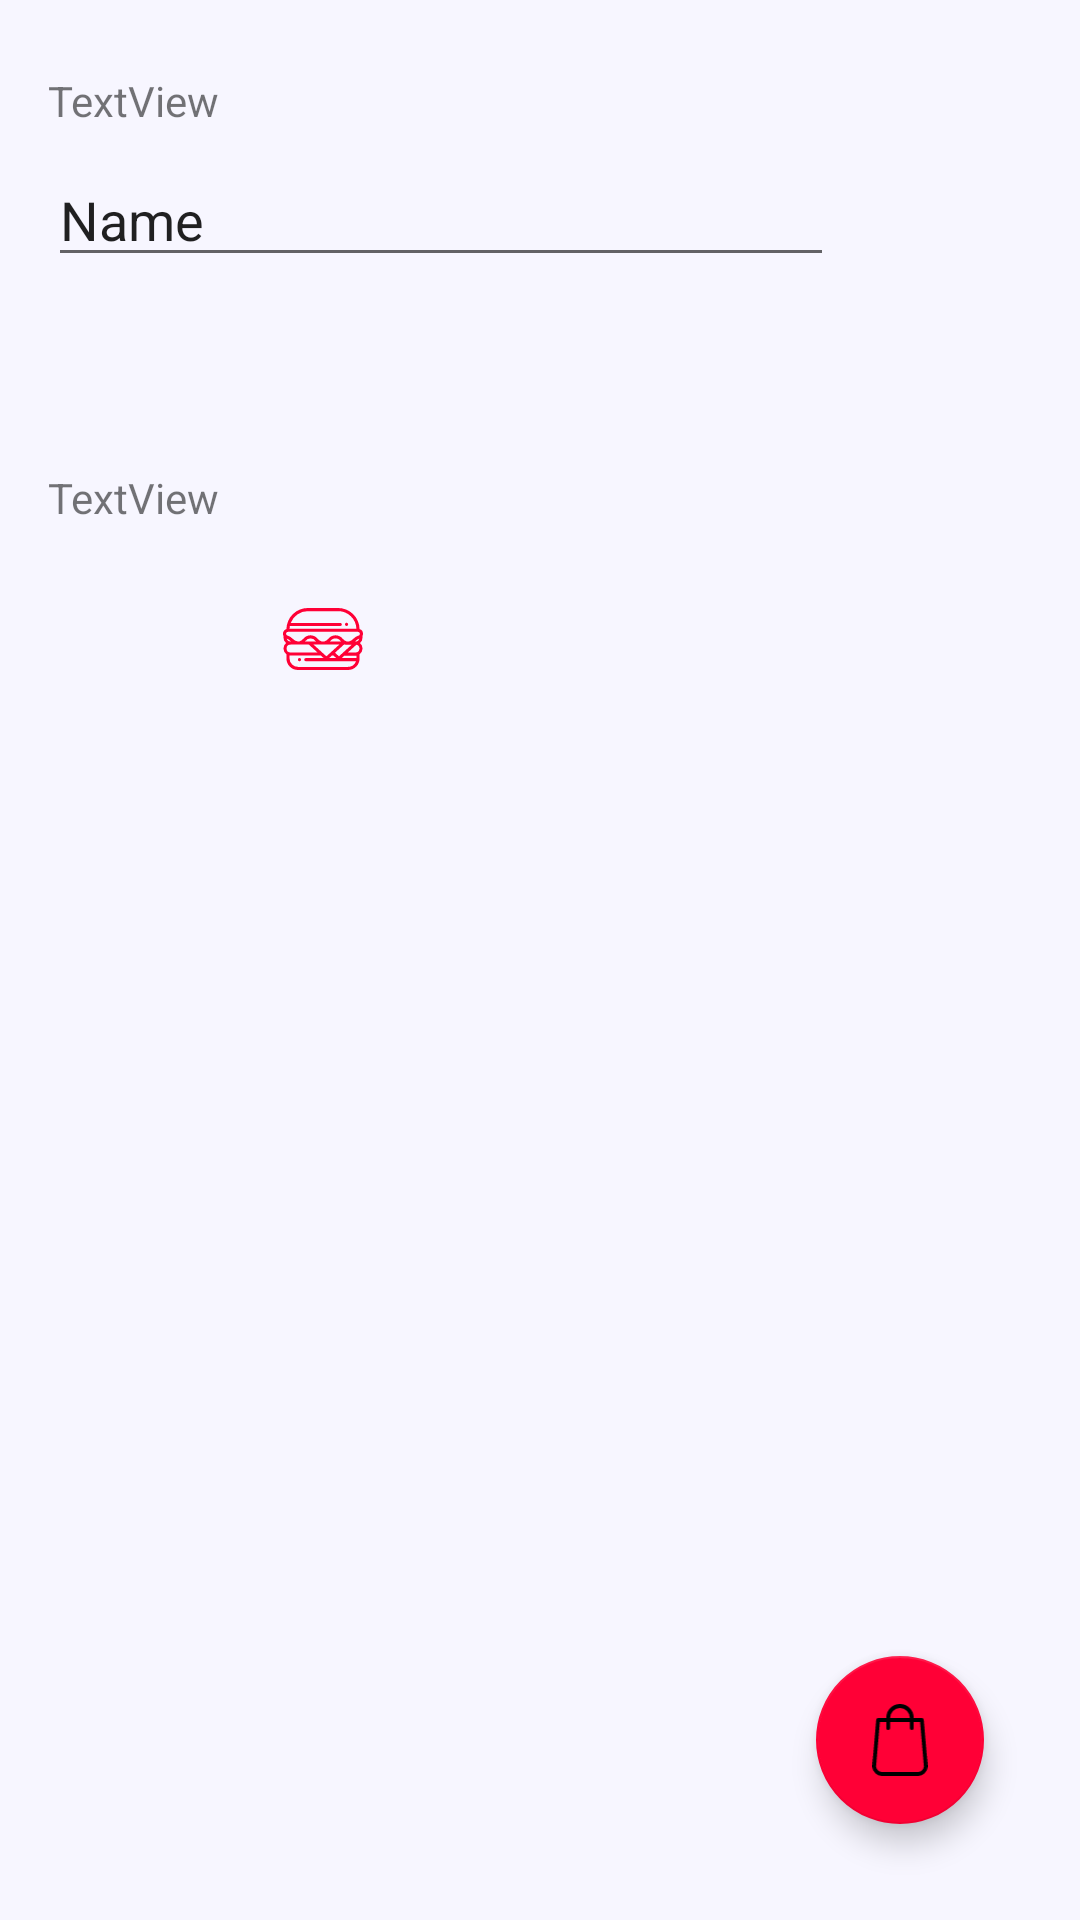

Locate icon controls on the screen. Image size 1080w x 1920h, boxes as bbox(x1, y1, x2, y2).
burger: bbox(283, 608, 363, 670)
shopping bag: bbox(816, 1656, 984, 1824)
